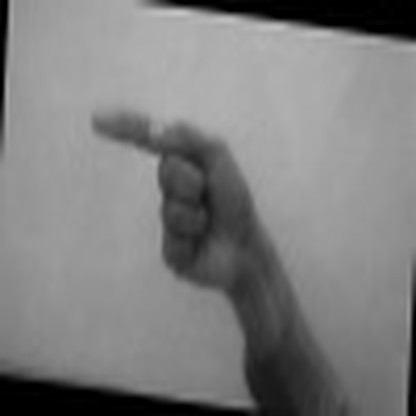g: (82, 102, 264, 287)
